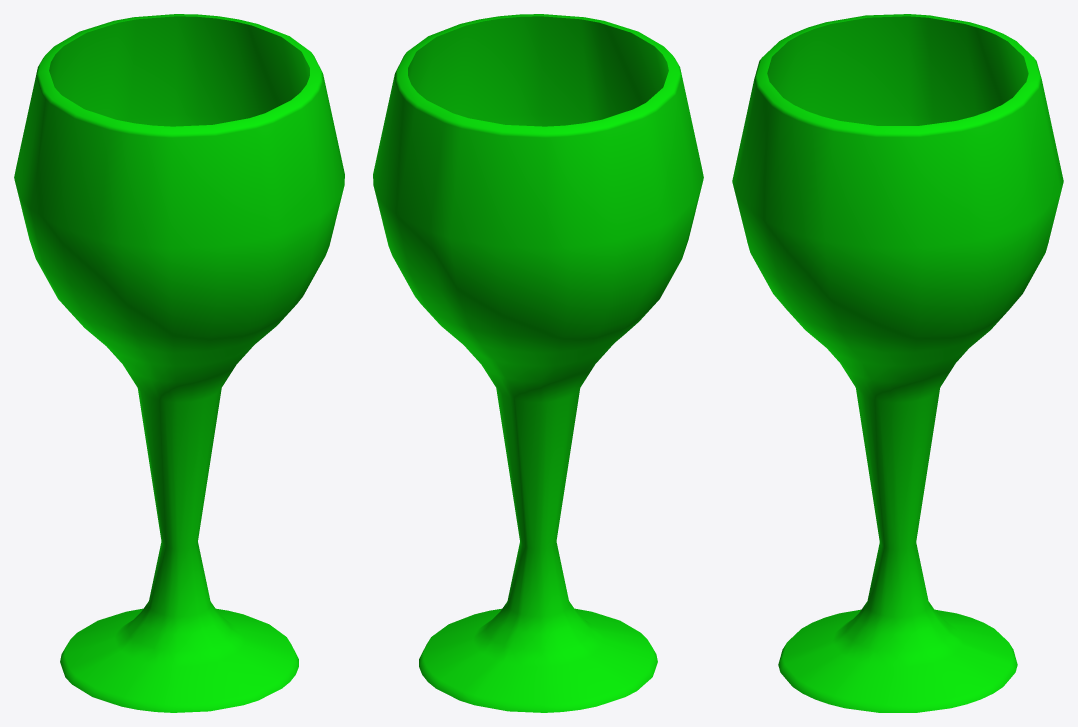
Rendered from Glass1_LOD_2.fbx.
3 renders of one model, left to right at view 1: azimuth 30°, elevation 25°; view 2: azimuth 150°, elevation 25°; view 3: azimuth 270°, elevation 25°, orthographic.
Visible parts, largest first — view 1: Glass1_LOD_2; view 2: Glass1_LOD_2; view 3: Glass1_LOD_2.
Boxes of the visible parts, bbox=[...] form: Glass1_LOD_2: bbox=[14, 14, 344, 712]; Glass1_LOD_2: bbox=[373, 14, 703, 712]; Glass1_LOD_2: bbox=[732, 14, 1063, 712].
Bounding box in the file's own units: 1.3 × 2.58 × 1.31.
